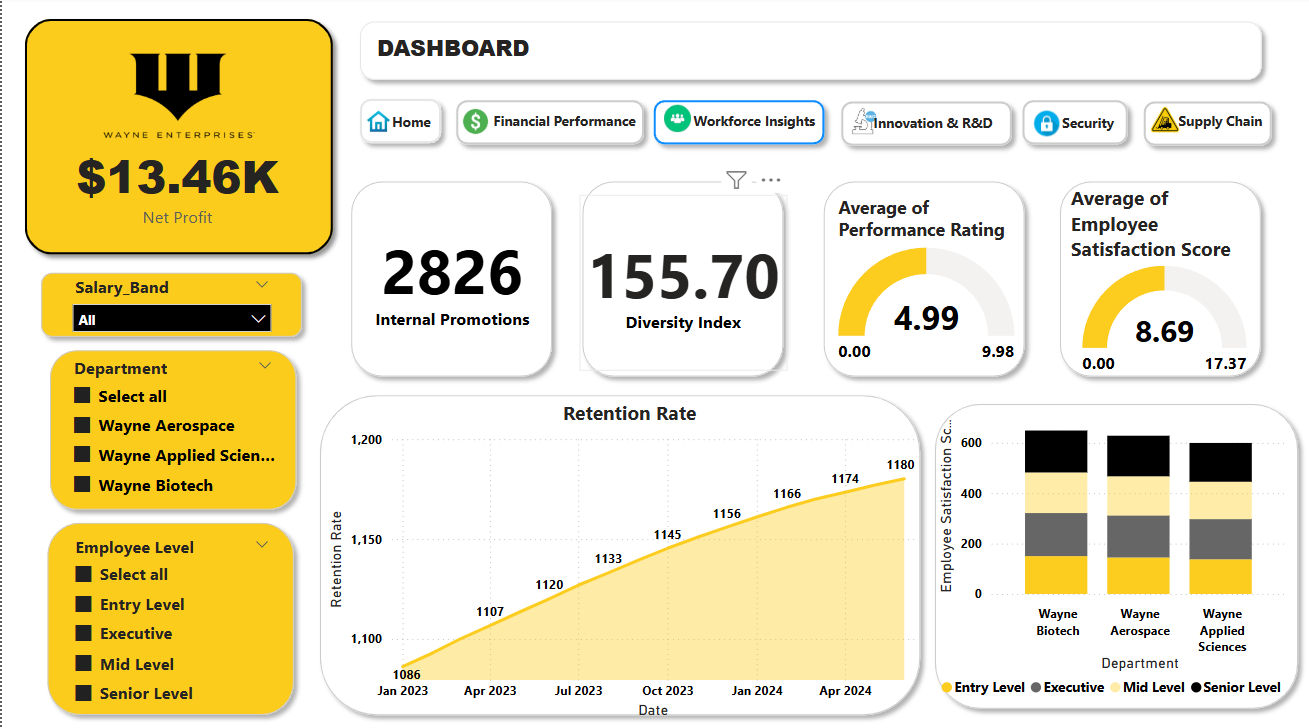

The dashboard page shown, as its layout file describes it:
{"tool":"powerbi","page":{"name":"Workforce Dashboard","canvas":[1280,720],"ordinal":2},"visuals":[{"type":"shape","box":[13.5,13.5,319.2,248.2],"z":0},{"type":"image","box":[50.1,9.7,243.5,172.5],"z":2000},{"type":"card","fields":{"Values":["wayne_financial_data.Net_Profit_M"]},"box":[64.8,110.1,214,151.6],"z":3000},{"type":"shape","box":[340.9,91.3,97.4,61.2],"z":4000},{"type":"shape","box":[1107.5,94.6,143.3,61.2],"z":5000},{"type":"shape","box":[341.6,15.3,900.2,75.1],"z":6000},{"type":"shape","box":[988.7,92.8,121,61.2],"z":7000},{"type":"shape","box":[434.9,92.4,201.7,61.2],"z":8000},{"type":"shape","box":[628.3,92.4,185,61.2],"z":9000},{"type":"textbox","box":[361.8,30.7,225,51.4],"z":10000},{"type":"image","box":[337.9,103.2,61.1,39.1],"z":11000},{"type":"textbox","box":[377,109.4,175.3,30.6],"z":12000},{"type":"image","box":[432.4,102.7,61.1,40.4],"z":13000},{"type":"textbox","box":[475.2,107.6,176.1,30.6],"z":14000},{"type":"image","box":[623.6,96,74.6,48.9],"z":15000},{"type":"textbox","box":[671.4,107.4,175.3,30.6],"z":16000},{"type":"image","box":[990.7,106.5,63.6,37.9],"z":17000},{"type":"textbox","box":[1031.8,109.5,176.7,30.6],"z":18000},{"type":"image","box":[1103.1,98.8,69.6,44.5],"z":19000},{"type":"textbox","box":[1146.3,107.1,130.8,30.6],"z":20000},{"type":"shape","box":[811.4,94.1,185,61.2],"z":21000},{"type":"image","box":[811.6,100.4,61.1,45.2],"z":22000},{"type":"textbox","box":[847.9,110.3,176.1,30.6],"z":23000},{"type":"shape","box":[35.9,505.9,259.1,206.1],"z":24000},{"type":"shape","box":[37.3,337.6,259.1,174.1],"z":25000},{"type":"slicer","fields":{"Values":["wayne_hr_analytics.Department"]},"box":[57.1,346.8,218.7,164.4],"z":26000},{"type":"slicer","fields":{"Values":["wayne_hr_analytics.Employee_Level"]},"box":[58.5,522.3,214.5,189.4],"z":27000},{"type":"shape","box":[29.2,261.8,273,80.8],"z":28000},{"type":"slicer","fields":{"Values":["wayne_hr_analytics.Salary_Band"]},"box":[58.5,267.4,214.5,75.2],"z":29000},{"type":"shape","box":[301.9,381.2,605.2,331.1],"z":30000,"group":"g1"},{"type":"group","id":"g1","title":"Group 1","box":[301.9,381.2,612.2,331.1],"z":30000},{"type":"areaChart","title":"Retention Rate","fields":{"Category":["wayne_hr_analytics.Date"],"Y":["wayne_hr_analytics.Retention_Rate_Pct"]},"box":[314.5,395.2,599.6,317.2],"z":31000,"group":"g1"},{"type":"shape","box":[903.9,390,373.3,316.2],"z":31000},{"type":"columnChart","fields":{"Category":["wayne_hr_analytics.Department"],"Series":["wayne_hr_analytics.Employee_Level"],"Y":["wayne_hr_analytics.Employee_Satisfaction_Score"]},"box":[910.9,398.3,352.4,296.7],"z":32000},{"type":"shape","box":[1026.5,172.7,214.5,208.9],"z":33000},{"type":"gauge","fields":{"Y":["wayne_hr_analytics.Employee_Satisfaction_Score"]},"box":[1040.4,185.2,193.6,196.4],"z":34000},{"type":"shape","box":[795.3,172.7,214.5,208.9],"z":35000},{"type":"gauge","fields":{"Y":["wayne_hr_analytics.Performance_Rating"]},"box":[813.4,195,182.5,176.9],"z":36000},{"type":"shape","box":[332.9,172.7,214.5,208.9],"z":37000},{"type":"card","fields":{"Values":["wayne_hr_analytics.Internal_Promotions"]},"box":[335.7,182.5,208.9,189.4],"z":38000},{"type":"shape","box":[559.1,172.7,214.5,208.9],"z":39000},{"type":"card","fields":{"Values":["wayne_hr_analytics.Diversity_Index"]},"box":[564.6,195,203.4,171.3],"z":40000},{"type":"actionButton","box":[346.4,104.3,86.3,41.7],"z":41000},{"type":"actionButton","box":[439.7,101.6,189.2,41.7],"z":42000},{"type":"actionButton","box":[816.7,103,172.5,41.7],"z":43000},{"type":"actionButton","box":[996.2,101.6,111.3,41.7],"z":44000},{"type":"actionButton","box":[1117.2,104.3,125.2,41.7],"z":45000}]}

Visuals, with their boxes in screenshot pixels (x1, y1, x2, y2), scaled from the page's 1280x720 canvas onto the 1309x728 screenshot:
shape: 14, 14, 340, 265
image: 51, 10, 300, 184
card - wayne_financial_data.Net_Profit_M: 66, 111, 285, 265
shape: 349, 92, 448, 154
shape: 1133, 96, 1279, 158
shape: 349, 15, 1270, 91
shape: 1011, 94, 1135, 156
shape: 445, 93, 651, 155
shape: 643, 93, 832, 155
textbox: 370, 31, 600, 83
image: 346, 104, 408, 144
textbox: 386, 111, 565, 142
image: 442, 104, 505, 145
textbox: 486, 109, 666, 140
image: 638, 97, 714, 147
textbox: 687, 109, 866, 140
image: 1013, 108, 1078, 146
textbox: 1055, 111, 1236, 142
image: 1128, 100, 1199, 145
textbox: 1172, 108, 1306, 139
shape: 830, 95, 1019, 157
image: 830, 102, 892, 147
textbox: 867, 112, 1047, 142
shape: 37, 512, 302, 720
shape: 38, 341, 303, 517
slicer - wayne_hr_analytics.Department: 58, 351, 282, 517
slicer - wayne_hr_analytics.Employee_Level: 60, 528, 279, 720
shape: 30, 265, 309, 346
slicer - wayne_hr_analytics.Salary_Band: 60, 270, 279, 346
shape: 309, 385, 928, 720
"Group 1" group: 309, 385, 935, 720
"Retention Rate" areaChart: 322, 400, 935, 720
shape: 924, 394, 1306, 714
columnChart - wayne_hr_analytics.Department x wayne_hr_analytics.Employee_Level: 932, 403, 1292, 703
shape: 1050, 175, 1269, 386
gauge - wayne_hr_analytics.Employee_Satisfaction_Score: 1064, 187, 1262, 386
shape: 813, 175, 1033, 386
gauge - wayne_hr_analytics.Performance_Rating: 832, 197, 1018, 376
shape: 340, 175, 560, 386
card - wayne_hr_analytics.Internal_Promotions: 343, 185, 557, 376
shape: 572, 175, 791, 386
card - wayne_hr_analytics.Diversity_Index: 577, 197, 785, 370
actionButton: 354, 105, 443, 148
actionButton: 450, 103, 643, 145
actionButton: 835, 104, 1012, 146
actionButton: 1019, 103, 1133, 145
actionButton: 1143, 105, 1271, 148
